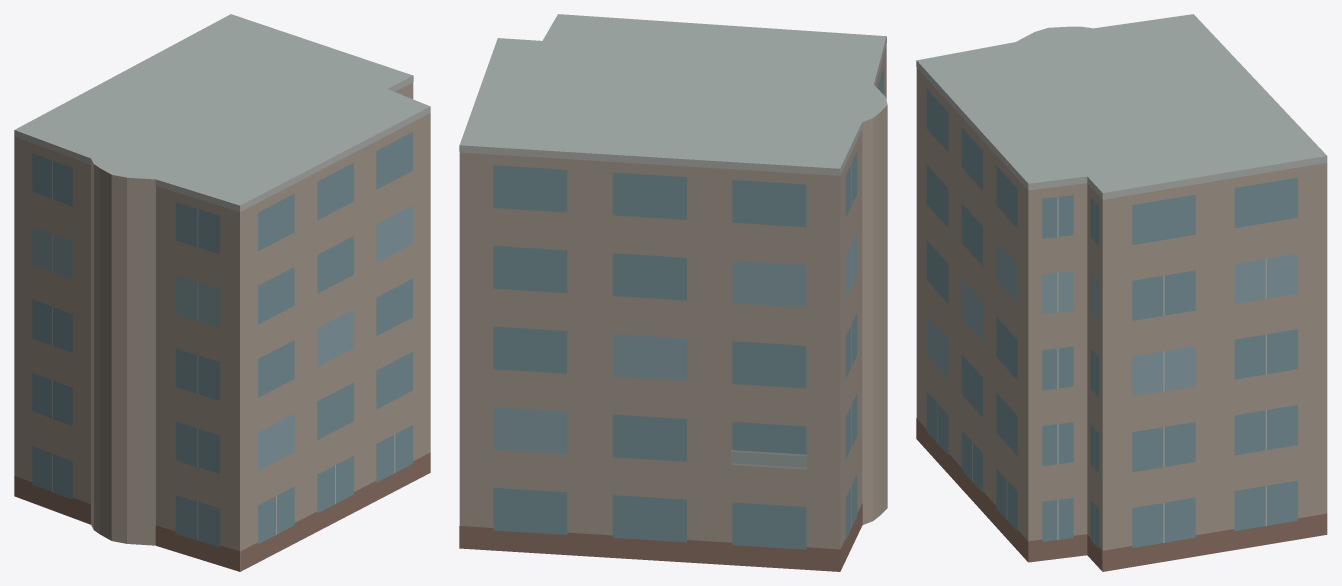
File: survey-upis-32857786.glb
3 renders of one model, left to right at view 1: azimuth 30°, elevation 25°; view 2: azimuth 150°, elevation 25°; view 3: azimuth 270°, elevation 25°, orthographic. The views are drawn at different scales.
Parts seen in each view (by area): view 1: survey-upis-32857786.tmp; view 2: survey-upis-32857786.tmp; view 3: survey-upis-32857786.tmp.
Part boxes in pixels (x1,y1,x2,y2): survey-upis-32857786.tmp: (14, 14, 430, 571); survey-upis-32857786.tmp: (459, 14, 887, 571); survey-upis-32857786.tmp: (916, 14, 1327, 571).
Size of the model in its own units: 13.91 by 13.7 by 13.48.
